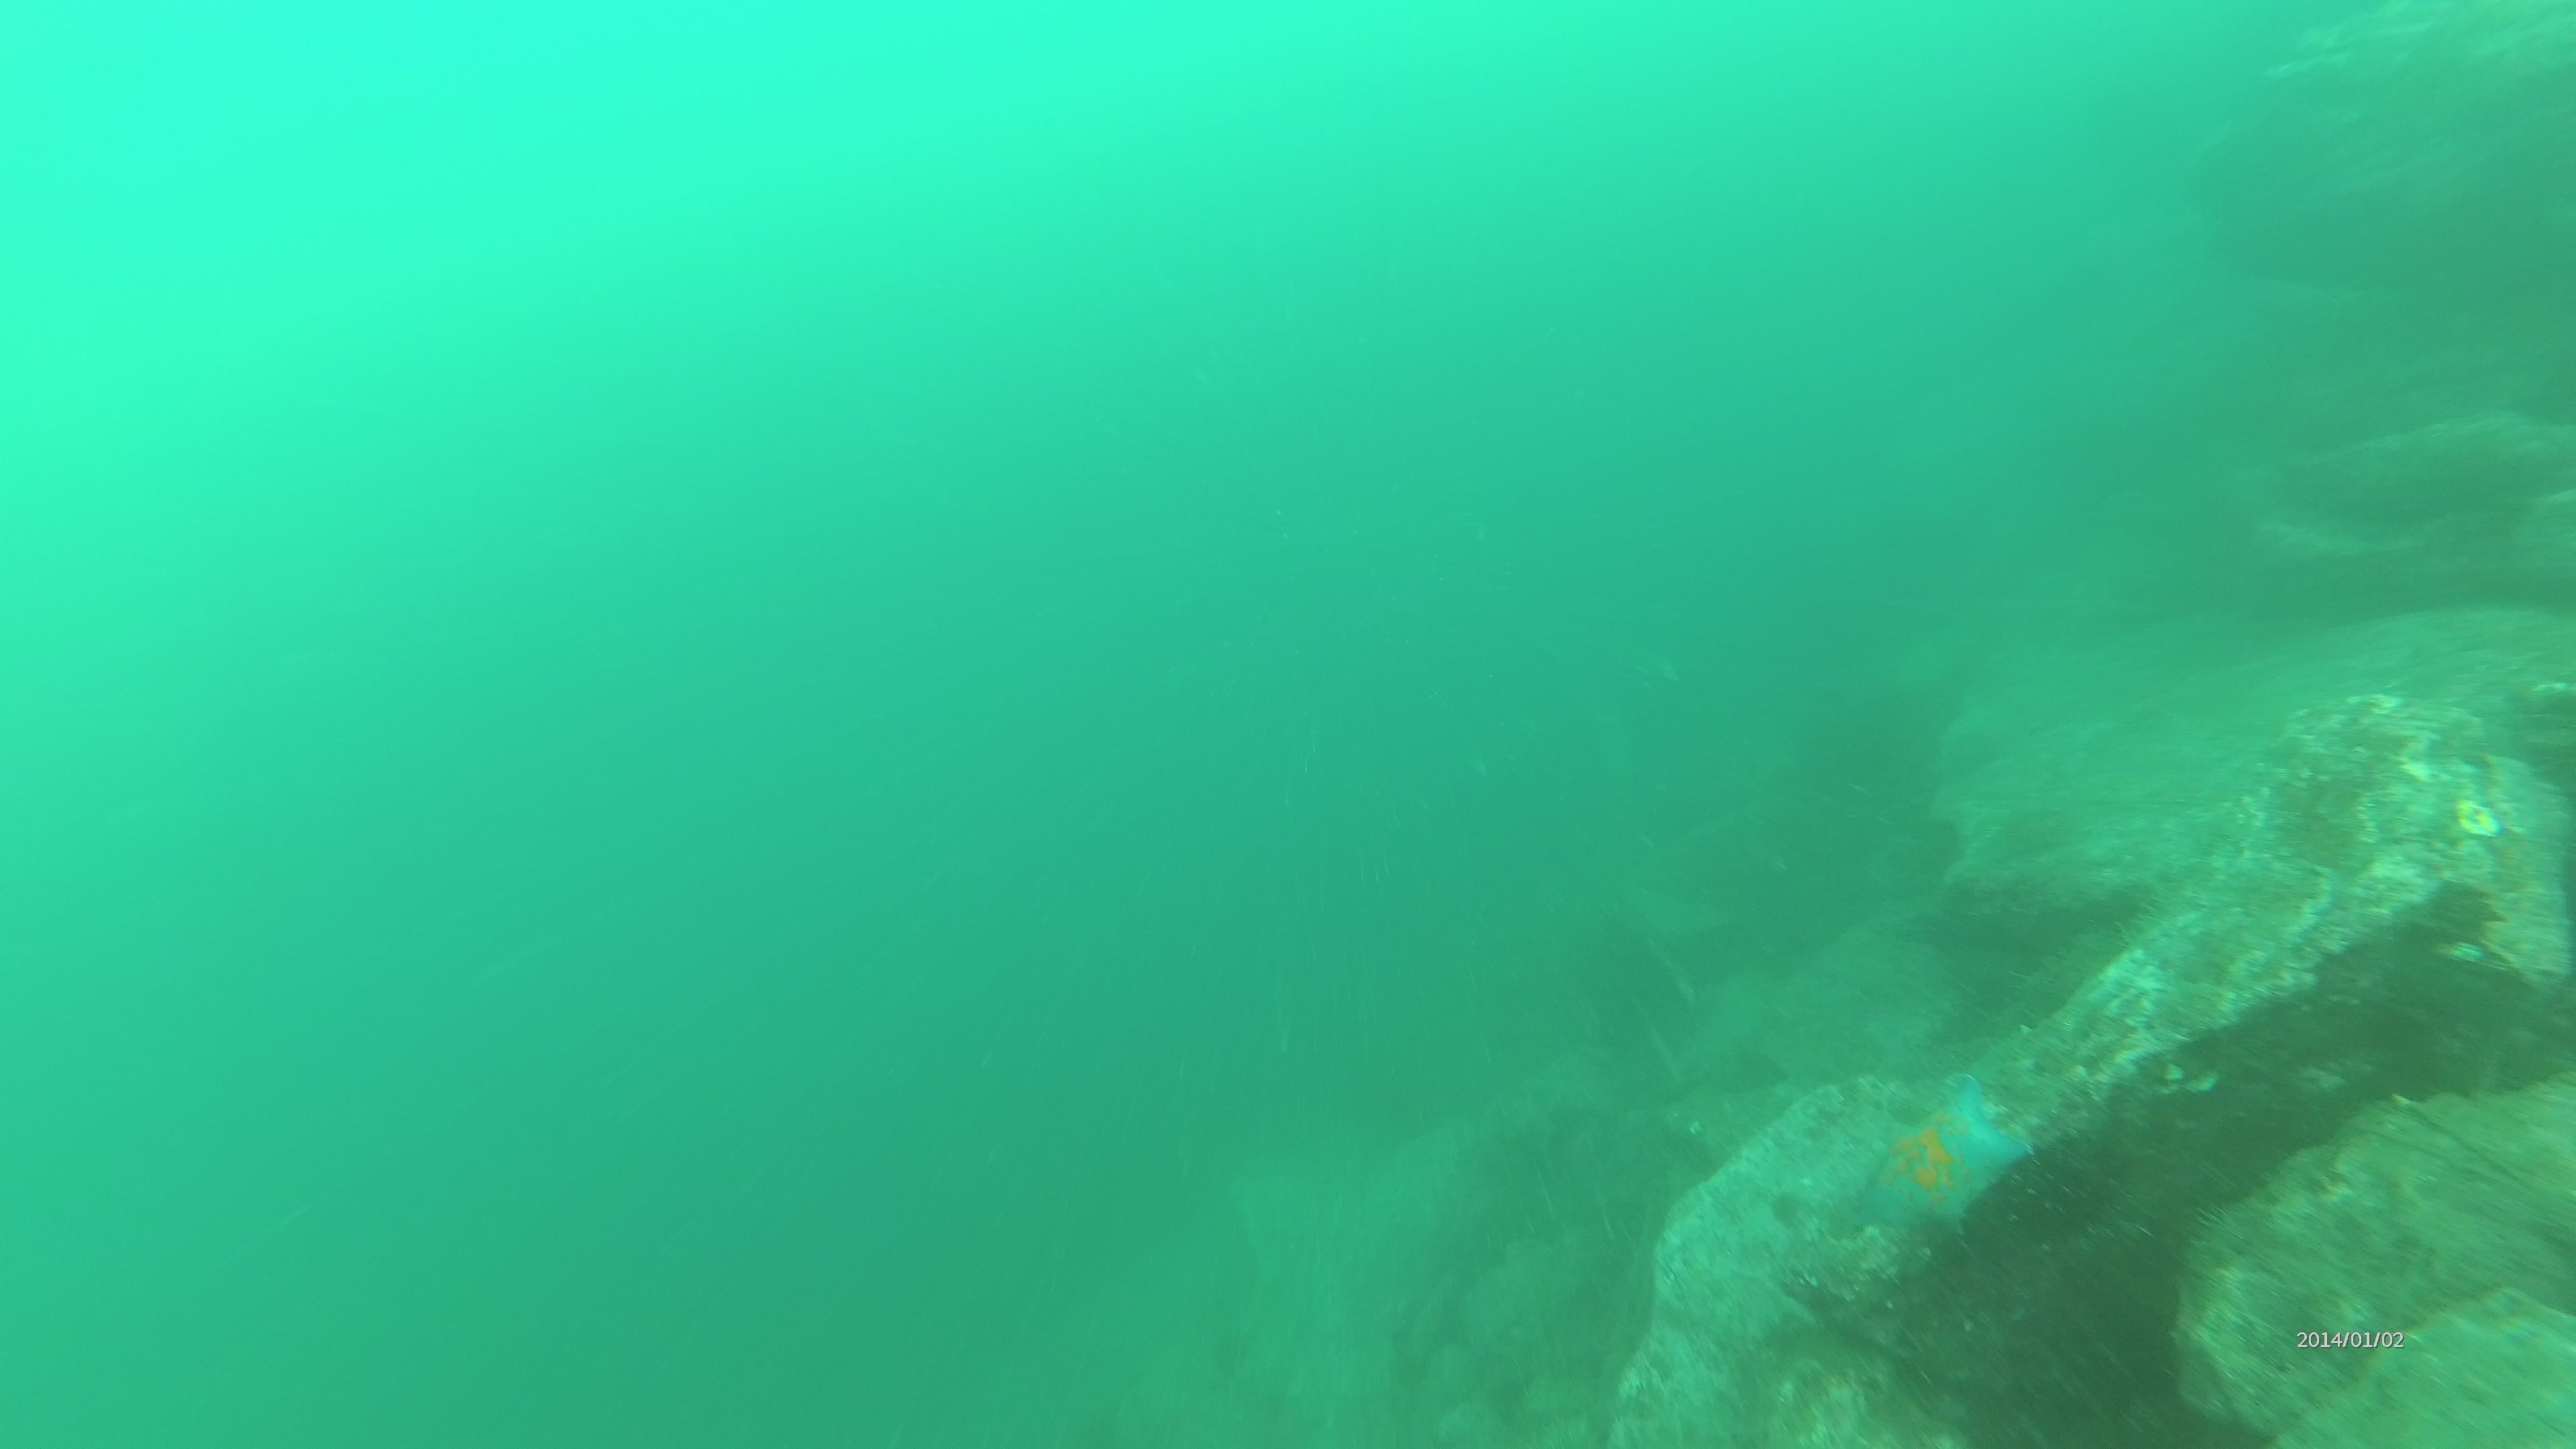starfish: (1844, 1072, 2035, 1249)
